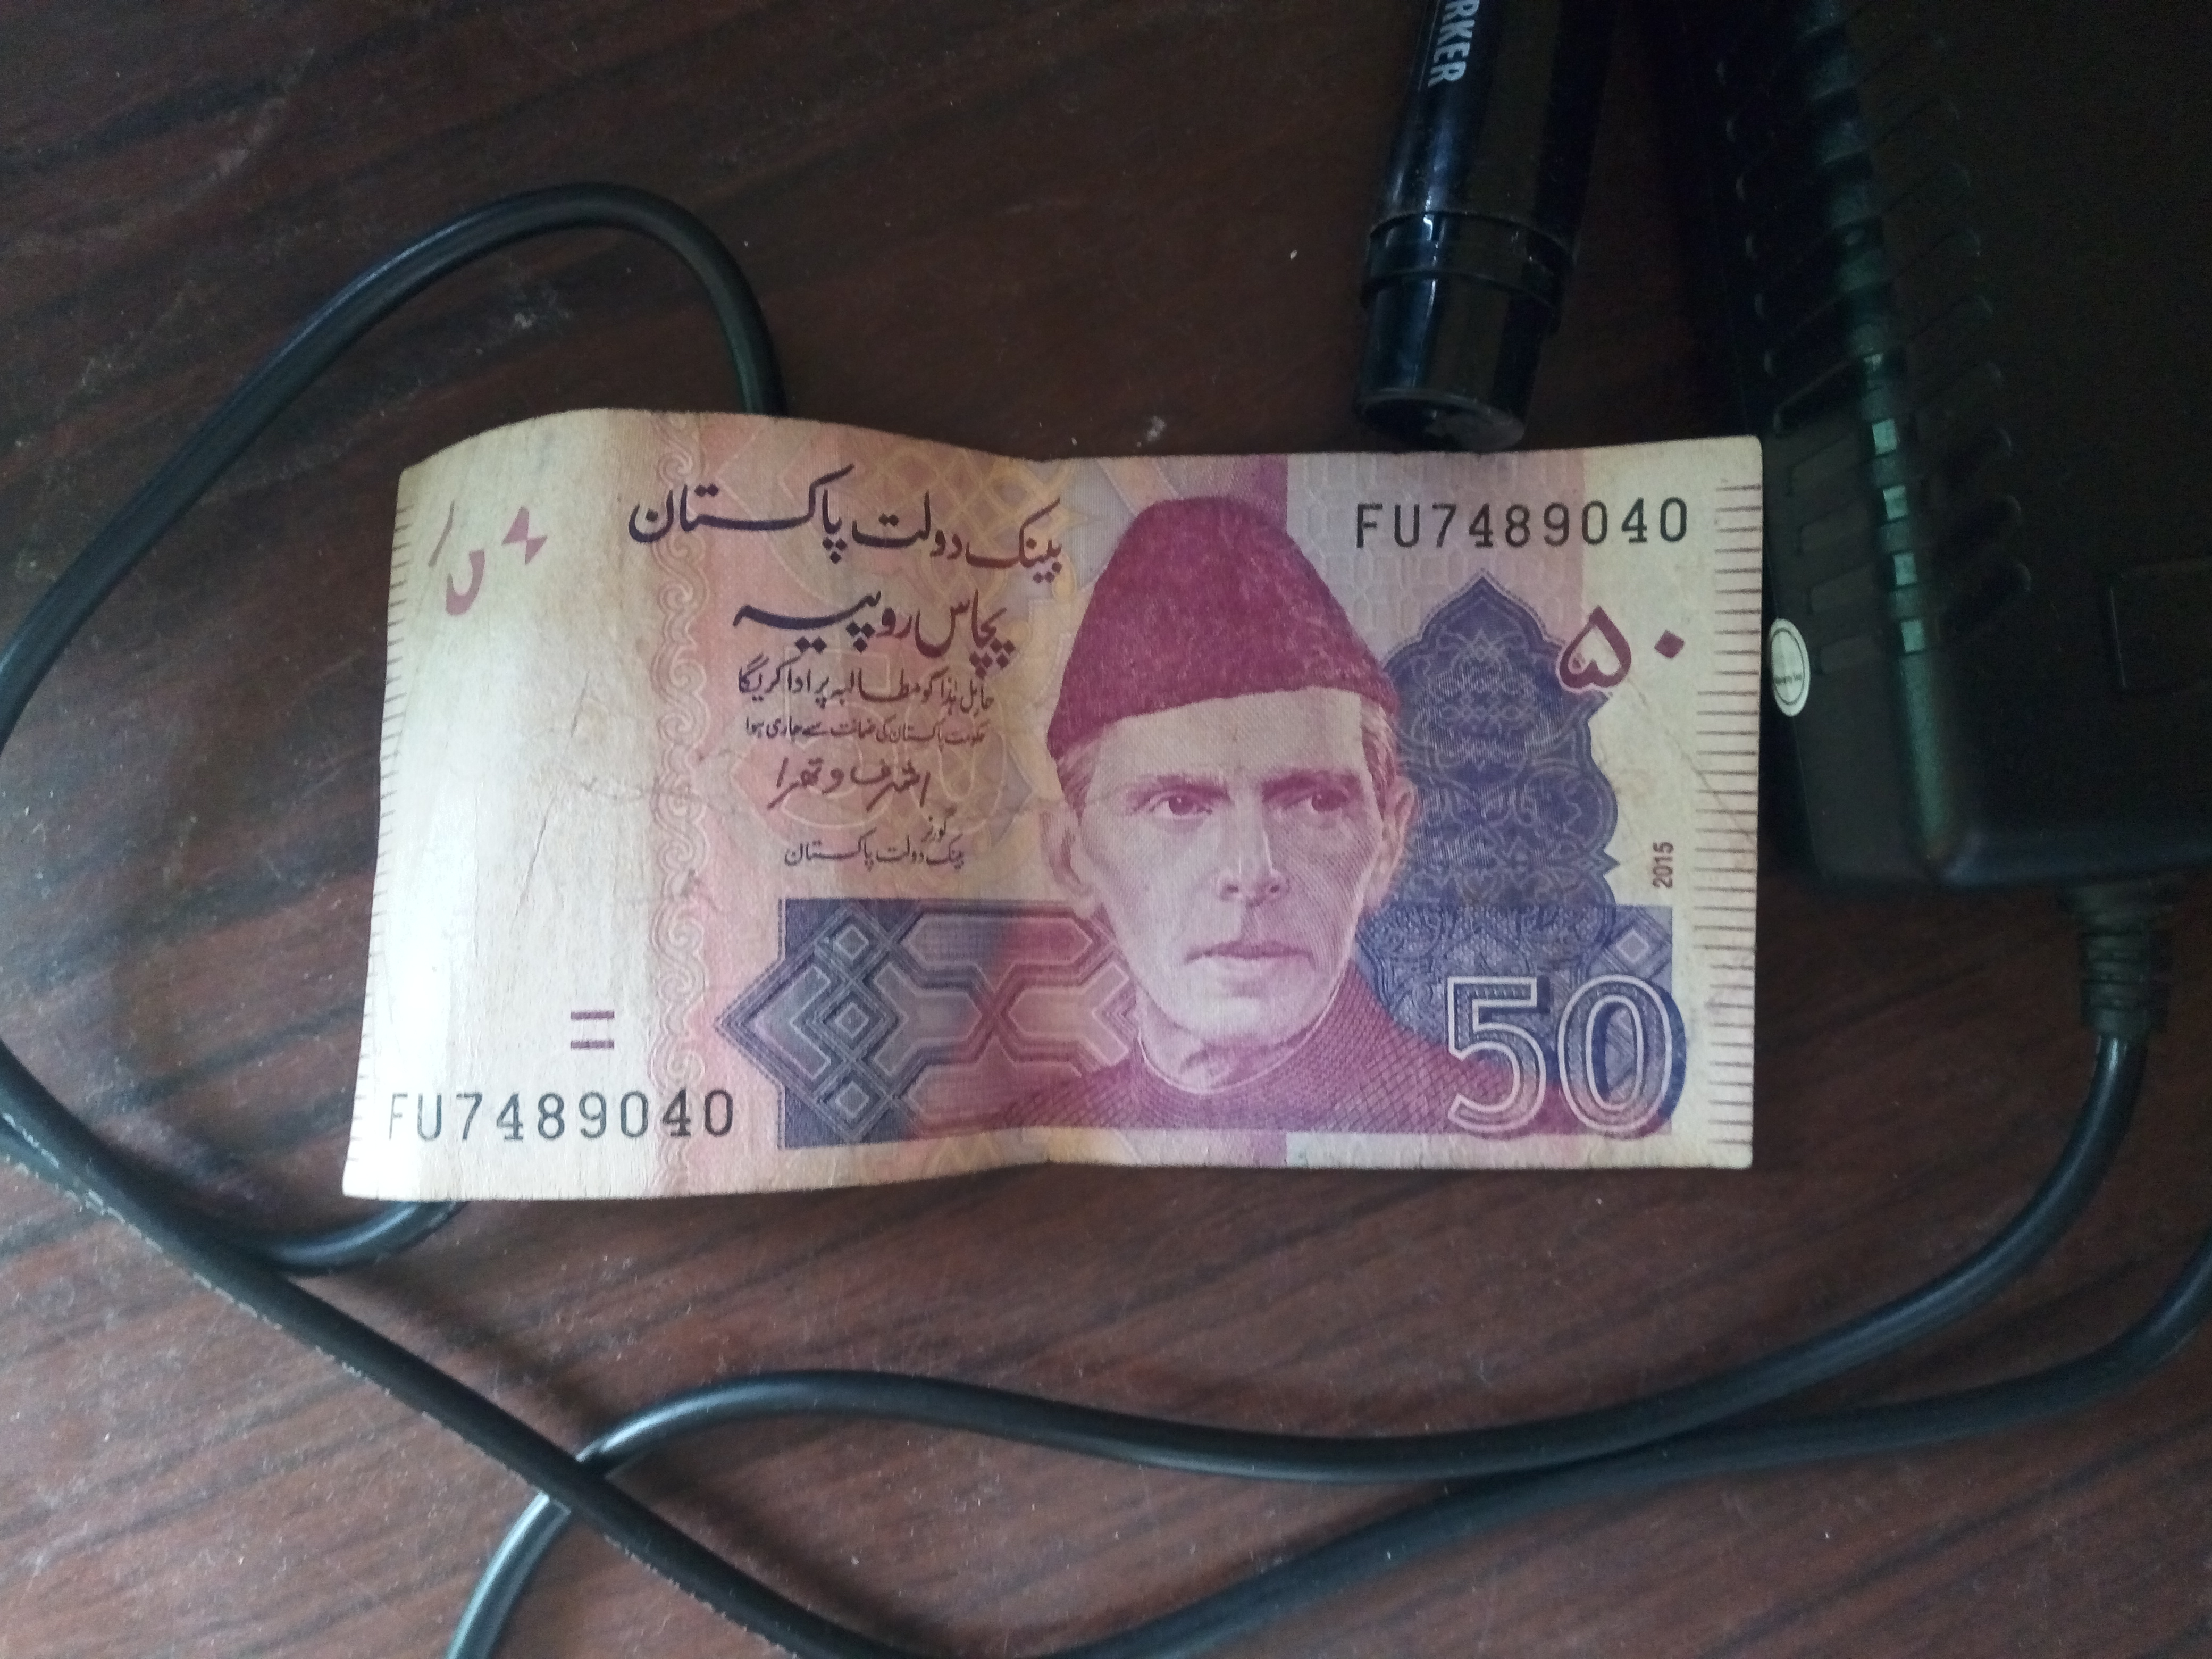50 rupee: (343, 420, 1836, 1263)
